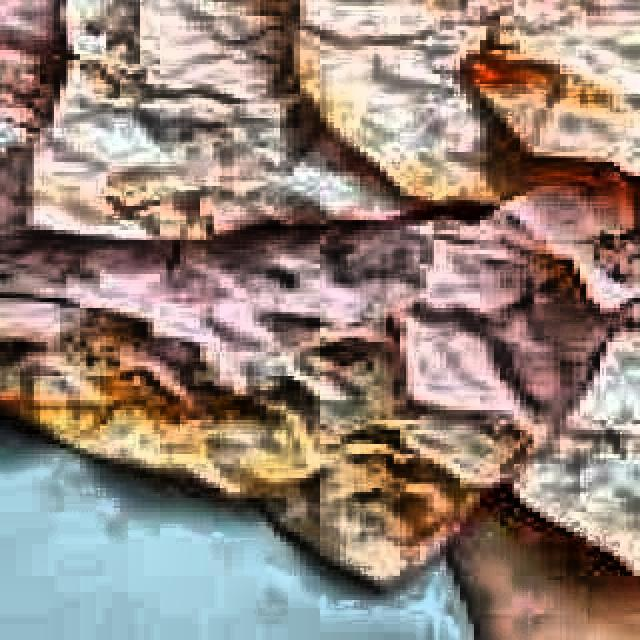paper: (0, 0, 640, 640), (0, 134, 620, 606), (426, 152, 640, 600), (26, 0, 434, 230), (214, 0, 620, 202), (460, 0, 640, 236)
